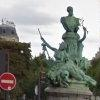Statue: (34, 2, 100, 100)
